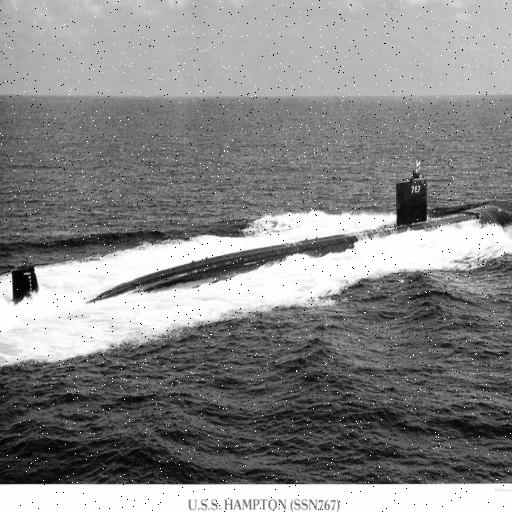submarine: (14, 163, 477, 335)
